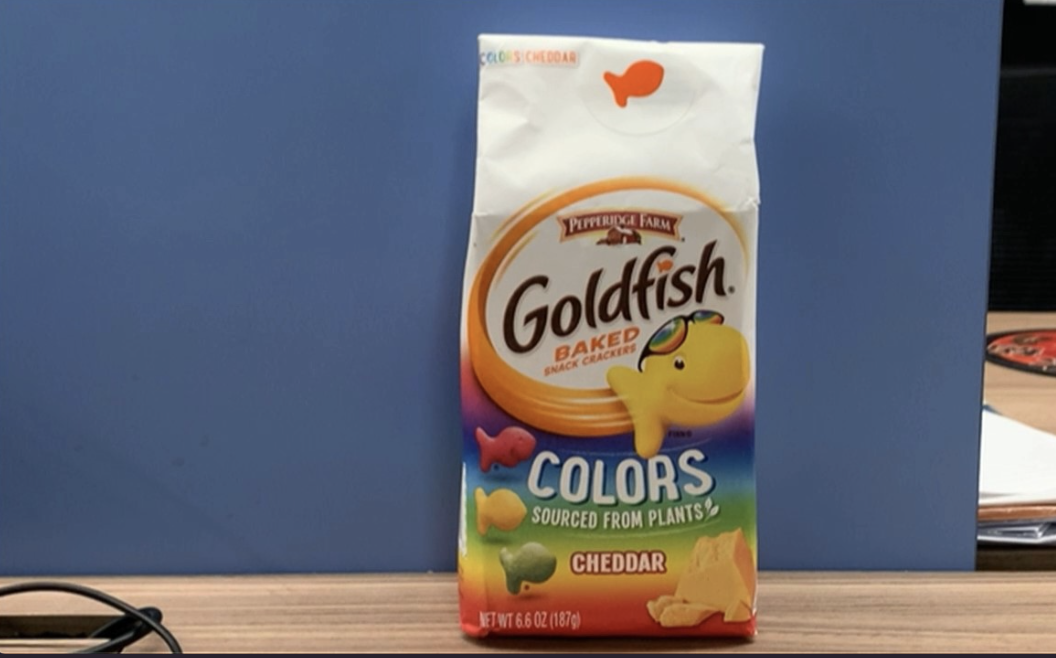crackers_100g-199g: (480, 56, 733, 637)
